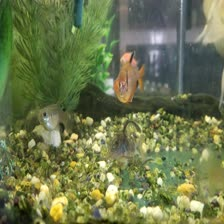Guppy: (37, 98, 77, 136)
Kiros: (96, 114, 149, 159)
Transparente: (108, 48, 152, 103)
